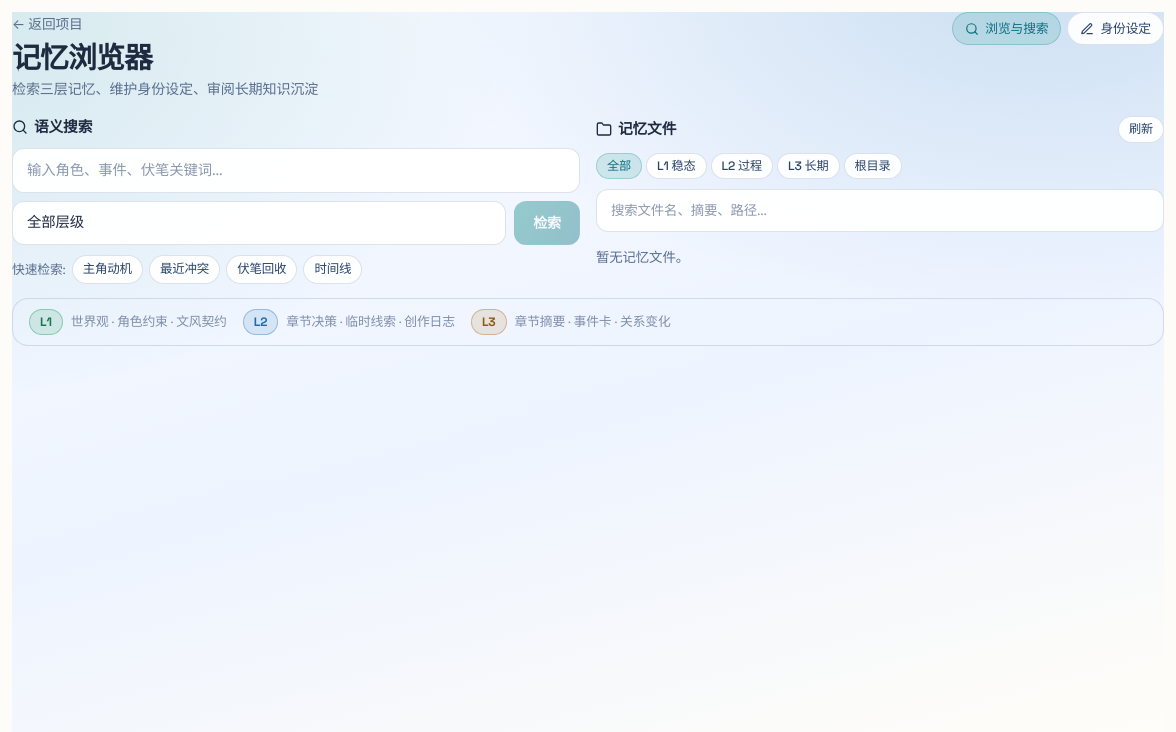
Test: MemoryBrowserPage › performs search and displays results
Step 1. Type "冰霜" into the field with placeholder "输入角色、事件、伏笔关键词..." → (296, 171), box [12, 148, 580, 193]
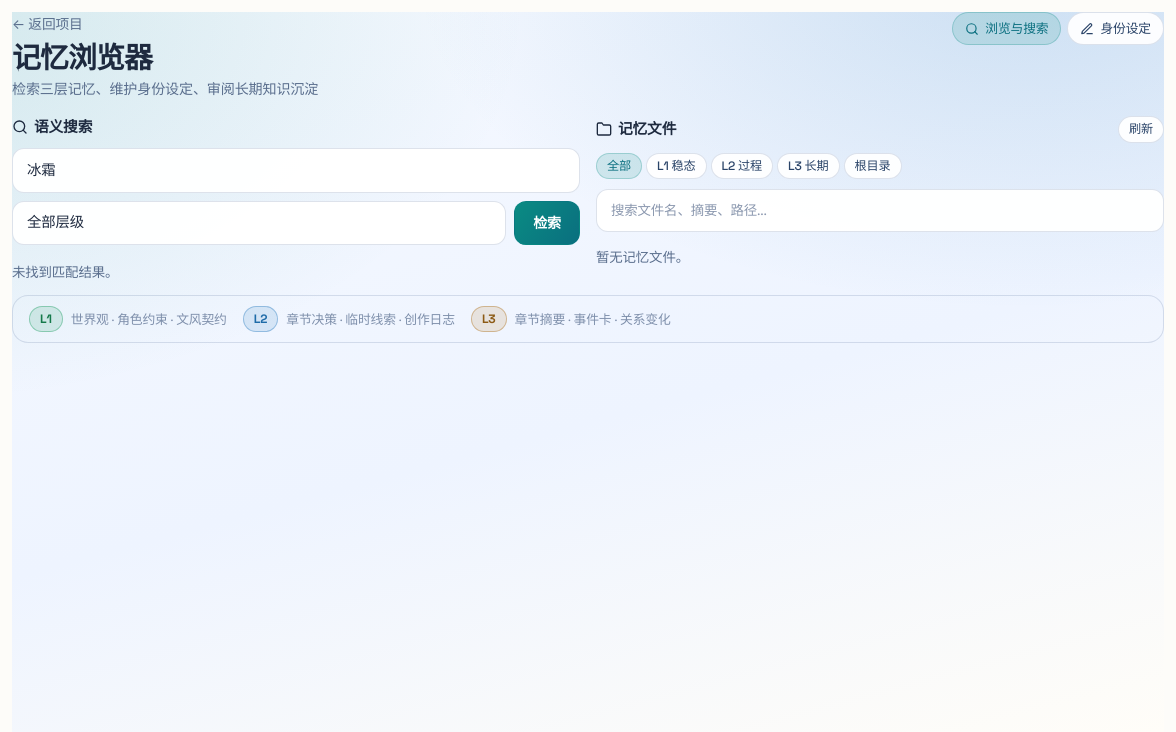
Step 2. Click the button "检索" → click(547, 223), box [514, 201, 580, 245]
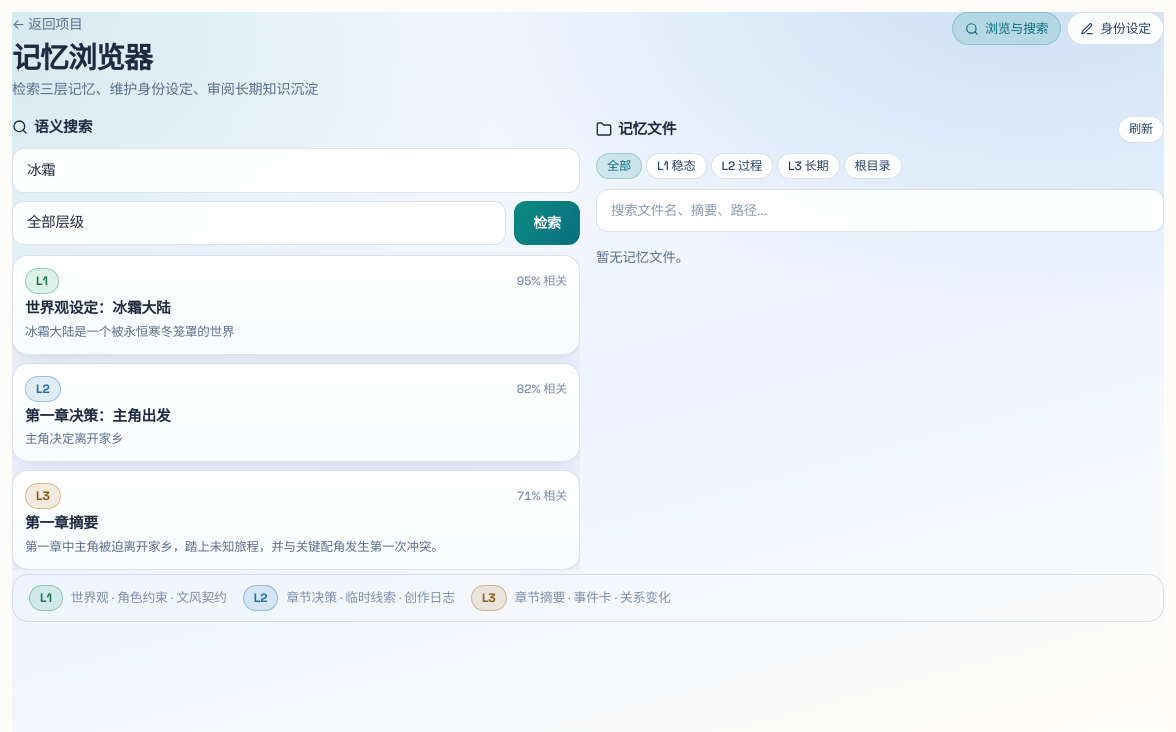
Check: the heading "世界观设定：冰霜大陆" is shown, box [25, 299, 171, 317]
Check: the heading "第一章决策：主角出发" is shown, box [25, 407, 171, 425]
Check: the heading "第一章摘要" is shown, box [25, 514, 98, 532]
